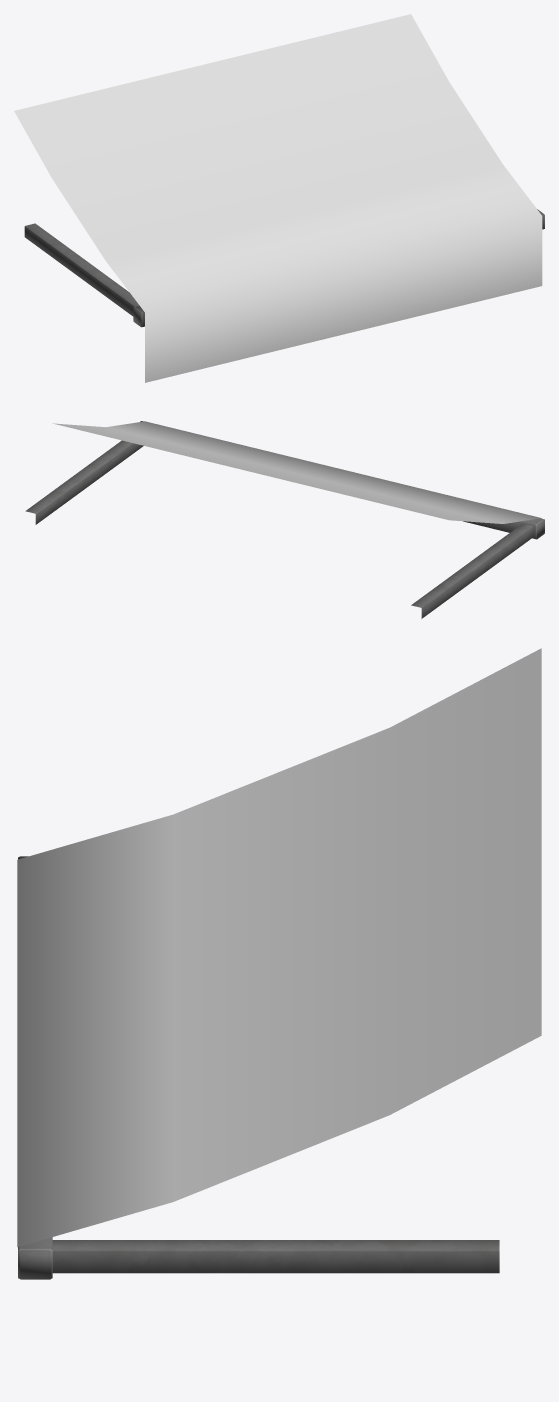
Rendered from SM_Building_CafeRoof_01.glb.
The picture shows the model from 3 angles, top to bottom: view 1: azimuth 30°, elevation 25°; view 2: azimuth 150°, elevation 25°; view 3: azimuth 270°, elevation 25°; orthographic projection. The views are drawn at different scales.
Parts seen in each view (by area): view 1: CafeRoof_01; view 2: CafeRoof_01; view 3: CafeRoof_01.
Part boxes in pixels (bbox=[...]): CafeRoof_01: bbox=[14, 14, 544, 382]; CafeRoof_01: bbox=[25, 421, 544, 618]; CafeRoof_01: bbox=[17, 648, 541, 1279].
Size of the model in its own units: 2.28 by 0.9525 by 1.29.
Materials: 2 (1 with a texture image).
